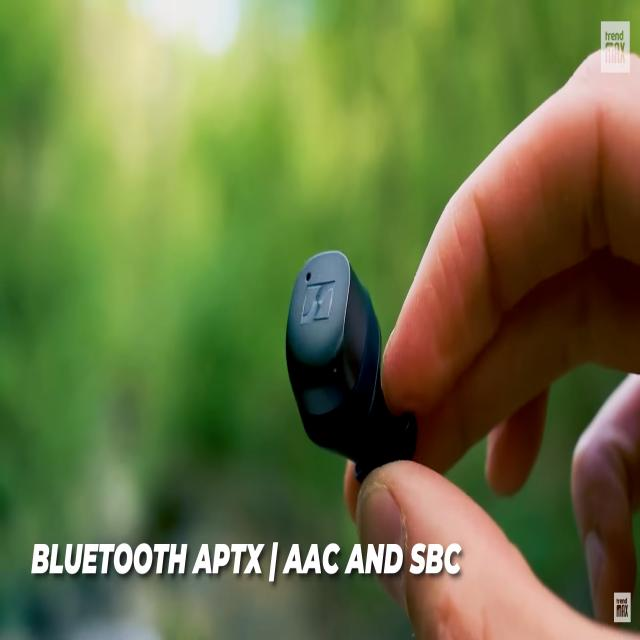airpods: (283, 243, 420, 488)
